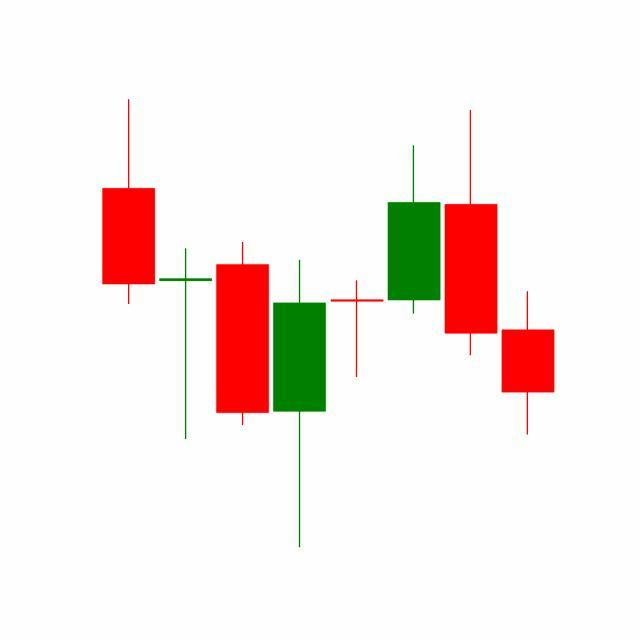Hikkake Pattern: (270, 106, 555, 549)
